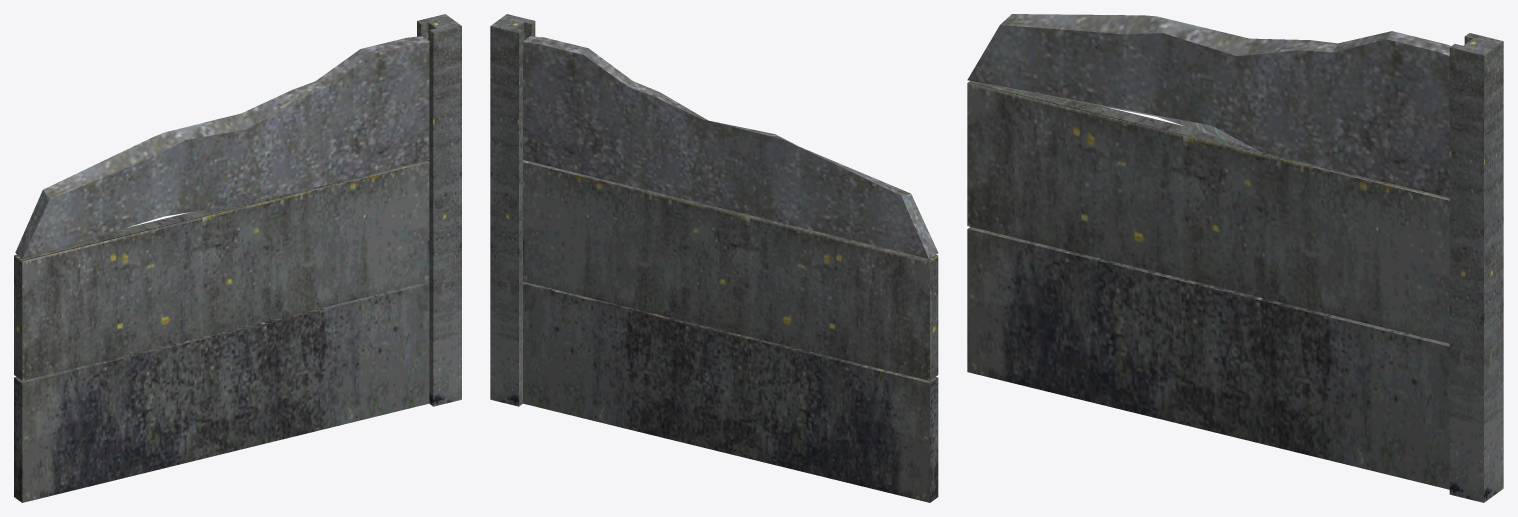
The model's file is Urban_PlackardBrokenAlt_Alternate_3bd1e4_Model.fbx.
3 renders of one model, left to right at view 1: azimuth 30°, elevation 25°; view 2: azimuth 150°, elevation 25°; view 3: azimuth 330°, elevation 25°, orthographic. The views are drawn at different scales.
Parts seen in each view (by area): view 1: Urban_PlackardBrokenAlt_Alternate_3bd1e4_Mesh; view 2: Urban_PlackardBrokenAlt_Alternate_3bd1e4_Mesh; view 3: Urban_PlackardBrokenAlt_Alternate_3bd1e4_Mesh.
Boxes of the visible parts, x1=… form: Urban_PlackardBrokenAlt_Alternate_3bd1e4_Mesh: x1=14, y1=14, x2=461, y2=502; Urban_PlackardBrokenAlt_Alternate_3bd1e4_Mesh: x1=490, y1=14, x2=938, y2=502; Urban_PlackardBrokenAlt_Alternate_3bd1e4_Mesh: x1=967, y1=14, x2=1503, y2=502.
Size of the model in its own units: 3.05 by 2.5 by 0.2.
